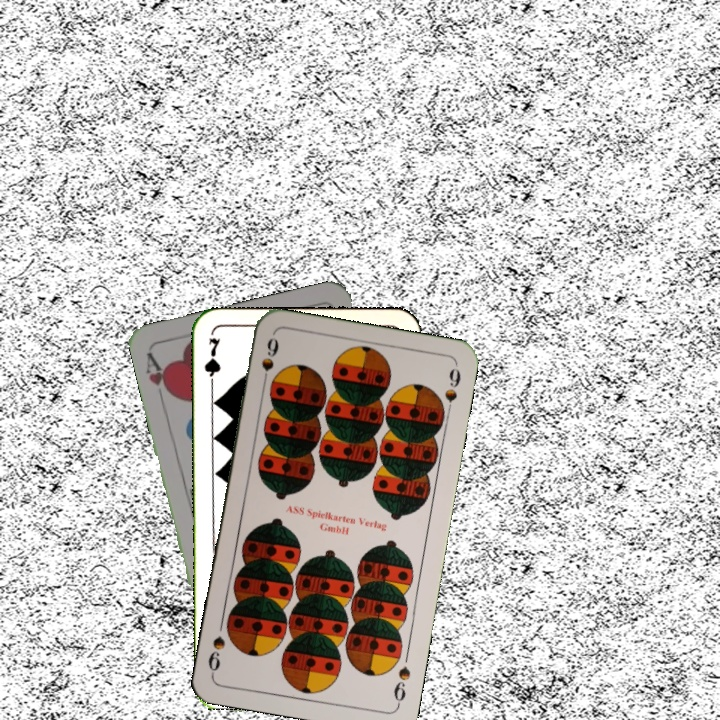G7: (200, 333, 223, 392)
HA: (142, 349, 176, 401)
S9: (257, 334, 281, 391), (389, 662, 413, 709)
